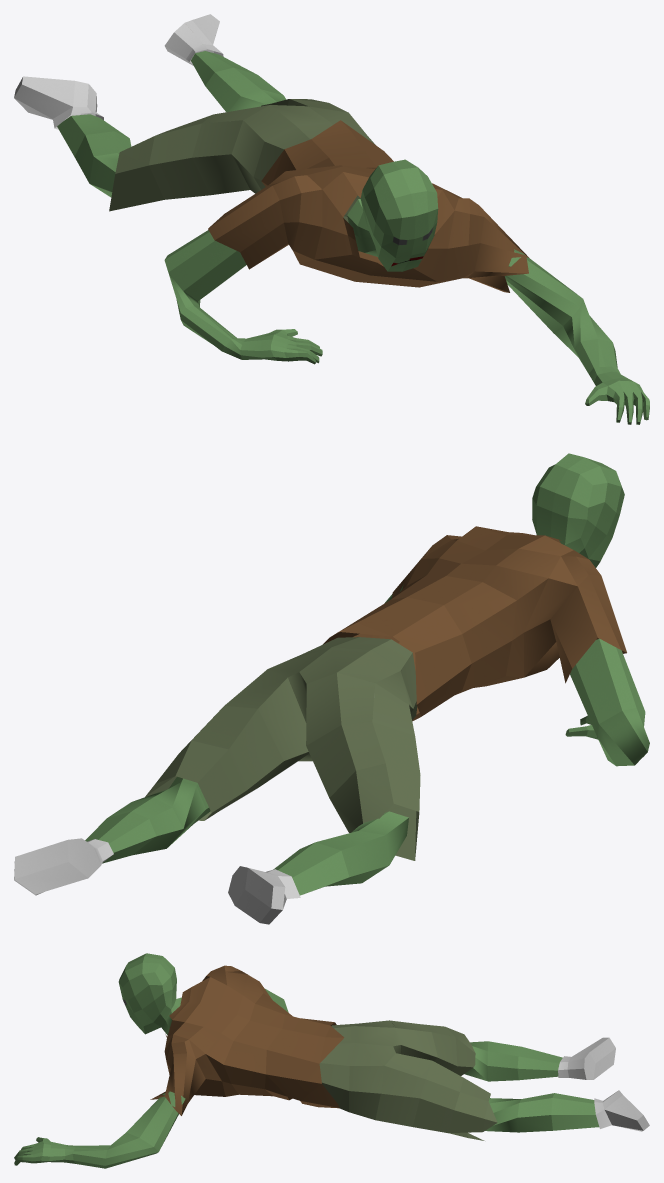
File: ZombieCrawl(121).obj
The picture shows the model from 3 angles, top to bottom: view 1: azimuth 30°, elevation 25°; view 2: azimuth 150°, elevation 25°; view 3: azimuth 270°, elevation 25°; orthographic projection. The views are drawn at different scales.
Visible parts, largest first — view 1: Object001; view 2: Object001; view 3: Object001.
Boxes of the visible parts, x1,y1,x2,y2 form: Object001: [14, 14, 649, 424]; Object001: [14, 453, 649, 924]; Object001: [14, 953, 649, 1168].
Size of the model in its own units: 30.01 by 19.54 by 71.14.
